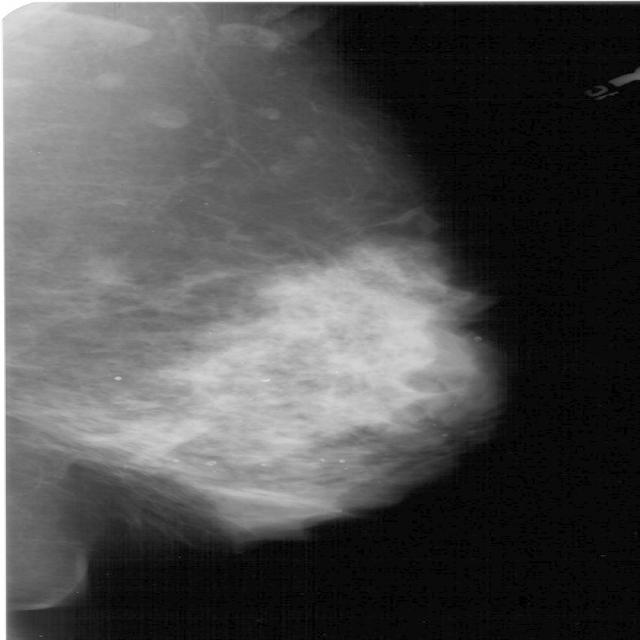tumour: (83, 253, 136, 290)
